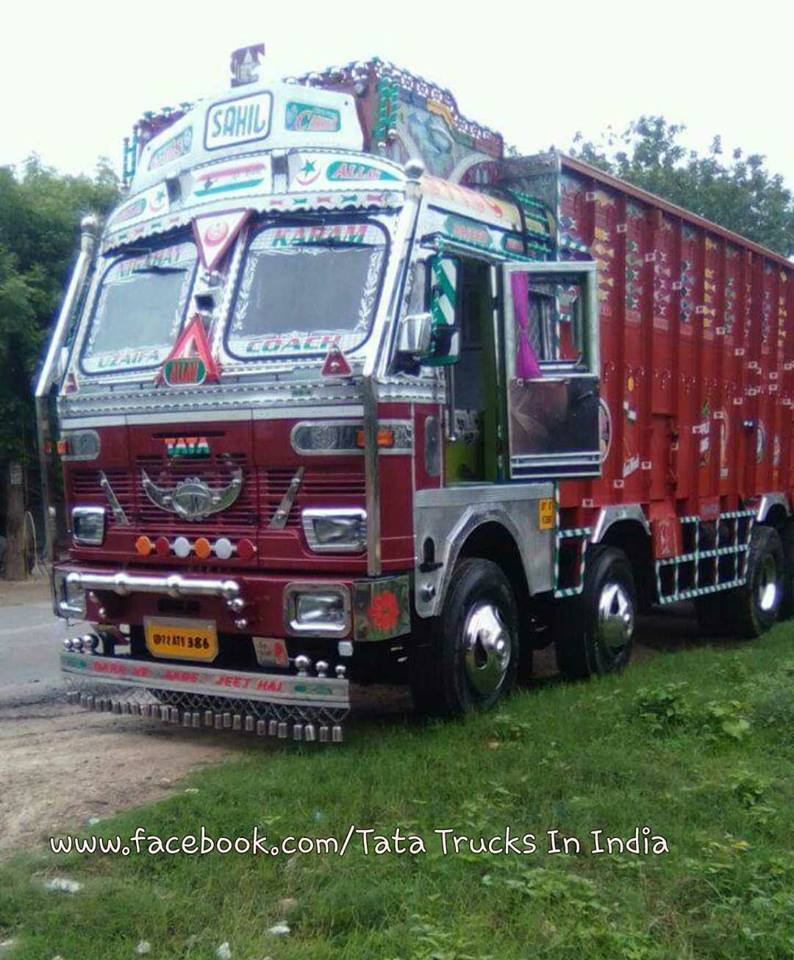truck: (36, 72, 786, 766)
